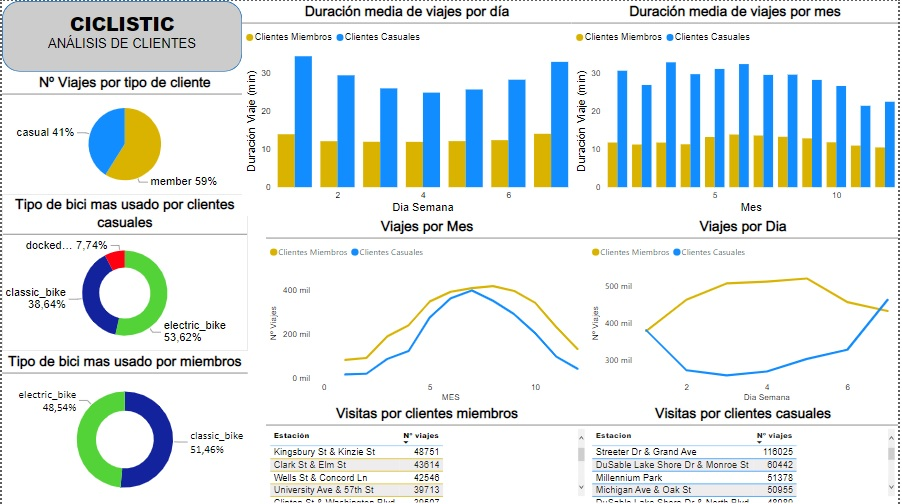

Layout of this report page (visuals, bound fields, positions):
{"tool":"powerbi","page":{"name":"DASHBOARD","canvas":[1280,720],"ordinal":0},"visuals":[{"type":"shape","box":[0,0,342.5,101.2],"z":0},{"type":"donutChart","title":"Tipo de bici mas usado por clientes casuales","fields":{"Category":["tipo_bici_casual.rideable_type"],"Y":["Sum(tipo_bici_casual.viajes_clientes)"]},"box":[0,275.3,351,224.3],"z":1000},{"type":"donutChart","title":"Tipo de bici mas usado por miembros","fields":{"Category":["tipo_bici_miembros.rideable_type"],"Y":["Sum(tipo_bici_miembros.viajes_clientes)"]},"box":[0,499.6,351,220.2],"z":2000},{"type":"lineChart","title":"Viajes por Mes","fields":{"Category":["Num_viajes_mes_casual.mes"],"Y":["Sum(Num_viajes_mes_member.numero_viajes)","Sum(Num_viajes_mes_casual.numero_viajes)"]},"box":[377.1,307.1,460,270],"z":3000},{"type":"lineChart","title":"Viajes por Dia","fields":{"Category":["num_viajes_dia_member.dia_semana"],"Y":["Sum(num_viajes_dia_member.num_viajes)","Sum(Viajes_dia_casual.num_viajes)"]},"box":[837.1,307.1,442.9,270],"z":4000},{"type":"pieChart","title":"Nº Viajes por tipo de cliente ","fields":{"Y":["Sum(tipos_clientes.num_viajes)"],"Category":["tipos_clientes.tipo_cliente"]},"box":[0,101.8,351,173.4],"z":5000},{"type":"clusteredColumnChart","title":"Duración media de viajes por día","fields":{"Category":["Prom_viajes_dia_member.dia_semana"],"Y":["Sum(Prom_viajes_dia_member.media_duracion)","Sum(Num_viajes_dia_casual.media_duracion)"]},"box":[342.9,0,471.4,307.1],"z":6000},{"type":"clusteredColumnChart","title":"Duración media de viajes por mes","fields":{"Category":["Promedio_mes_casual.mes"],"Y":["Sum(Promedio_mes_member.promedio_viaje)","Sum(Promedio_mes_casual.promedio_viaje)"]},"box":[814.3,0,465.7,307.1],"z":7000},{"type":"tableEx","title":"Visitas por clientes casuales","fields":{"Values":["total_viajes_casuales.station_name","total_viajes_casuales.total_viajes"]},"box":[837.1,574.3,442.9,145.7],"z":8000},{"type":"tableEx","title":"Visitas por clientes miembros","fields":{"Values":["total_viajes_miembros.station_name","Sum(total_viajes_miembros.total_viajes)"]},"box":[377.1,574.3,460,145.7],"z":9000},{"type":"textbox","box":[21.2,8.8,300,92.5],"z":10000}]}

Visuals, with their boxes in screenshot pixels (x1, y1, x2, y2), scaled from the page's 1280x720 canvas onto the 902x504 screenshot:
shape: [left=0, top=0, right=241, bottom=71]
"Tipo de bici mas usado por clientes casuales" donutChart: [left=0, top=193, right=247, bottom=350]
"Tipo de bici mas usado por miembros" donutChart: [left=0, top=350, right=247, bottom=503]
"Viajes por Mes" lineChart: [left=266, top=215, right=590, bottom=404]
"Viajes por Dia" lineChart: [left=590, top=215, right=901, bottom=404]
"Nº Viajes por tipo de cliente " pieChart: [left=0, top=71, right=247, bottom=193]
"Duración media de viajes por día" clusteredColumnChart: [left=242, top=0, right=574, bottom=215]
"Duración media de viajes por mes" clusteredColumnChart: [left=574, top=0, right=901, bottom=215]
"Visitas por clientes casuales" tableEx: [left=590, top=402, right=901, bottom=503]
"Visitas por clientes miembros" tableEx: [left=266, top=402, right=590, bottom=503]
textbox: [left=15, top=6, right=226, bottom=71]
